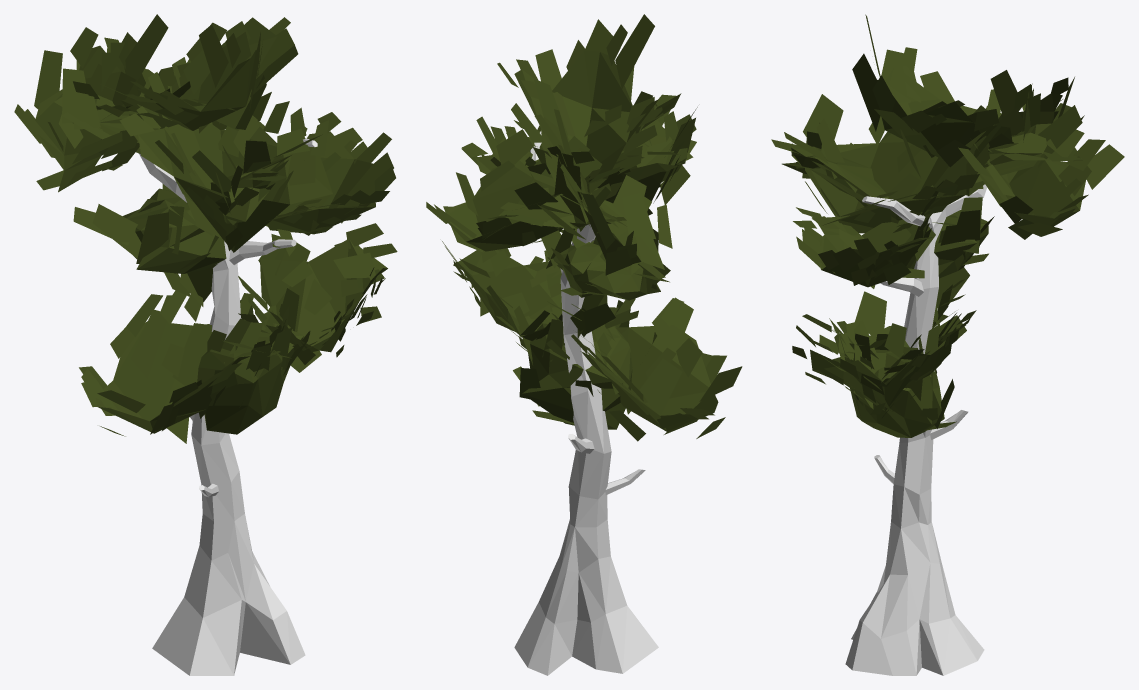
Rendered from SM_Tree_Juniper_Young_A.fbx.
3 views of the same model, side by side, from view 1: azimuth 30°, elevation 25°; view 2: azimuth 150°, elevation 25°; view 3: azimuth 270°, elevation 25° (orthographic). The views are drawn at different scales.
Visible parts, largest first — view 1: tree-juniper-young-a; view 2: tree-juniper-young-a; view 3: tree-juniper-young-a.
Boxes of the visible parts, x1,y1,x2,y2 form: tree-juniper-young-a: (14, 14, 397, 675); tree-juniper-young-a: (426, 14, 742, 675); tree-juniper-young-a: (771, 14, 1124, 675).
Size of the model in its own units: 1.53 by 3.18 by 1.65.
